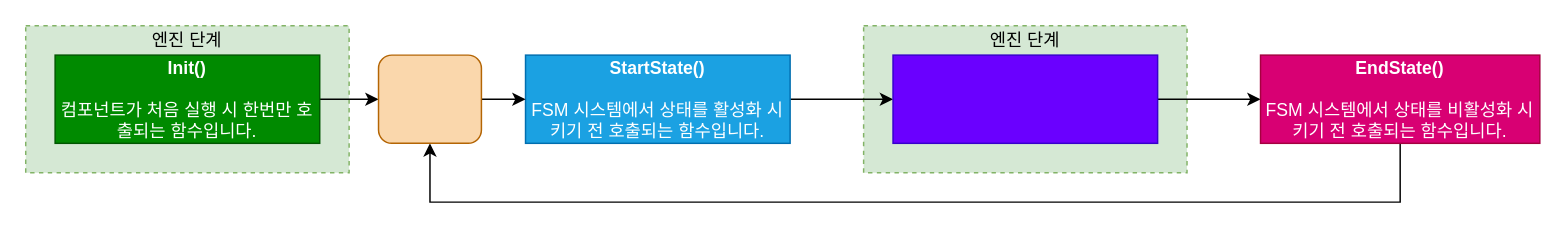
The diagram is 1566 pixels wide and 240 high, and some of its shapes have lost their labels. Each missing label, with the box of its shape:
Tick() 상태가 활성화 되면 게임의 매 프레임마다 호출되는 함수입니다.: (892, 54, 1158, 143)
상태 호출 대기 중...: (377, 54, 481, 143)
